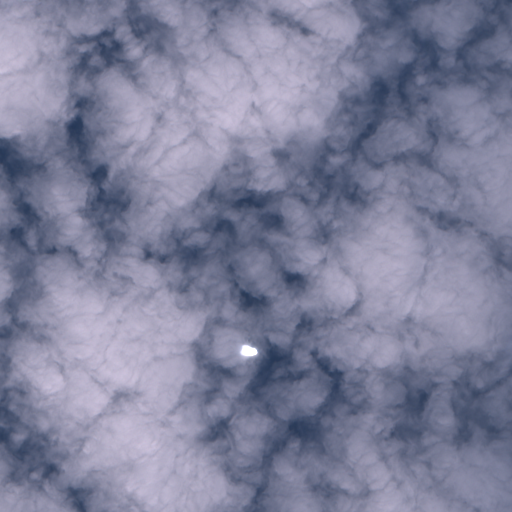Iceberg: (240, 345, 257, 355)
